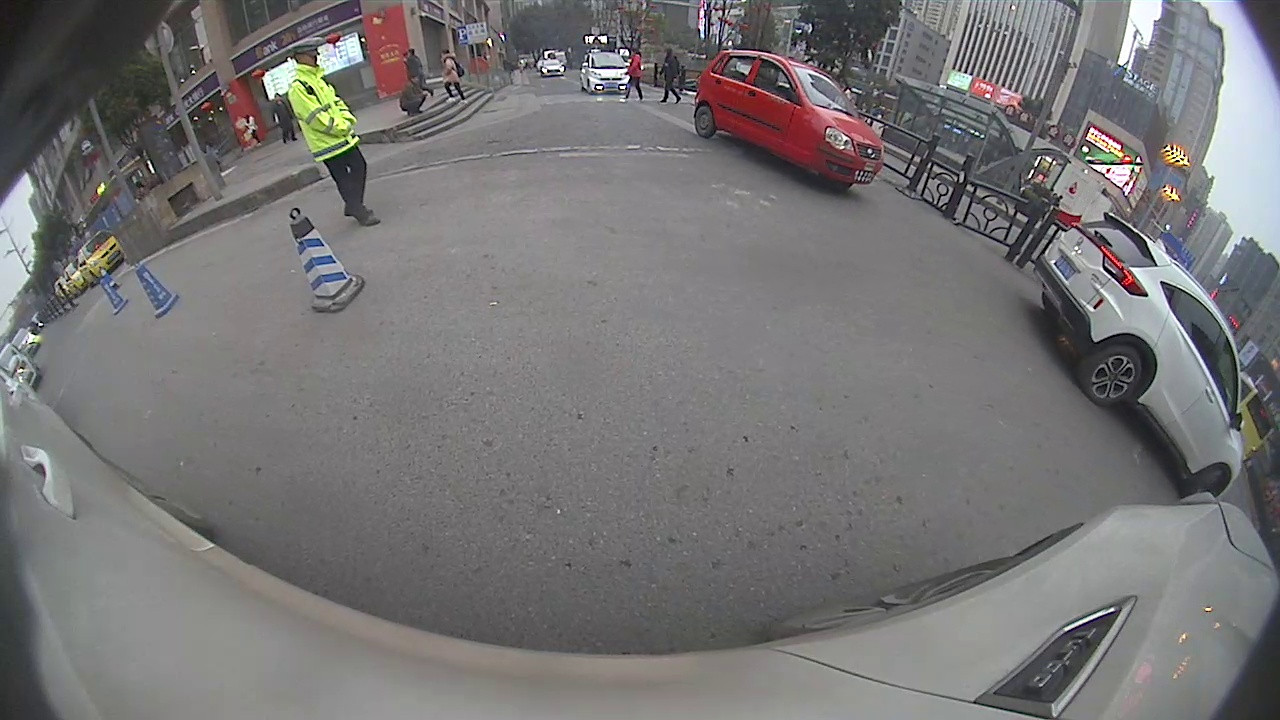car: (1032, 212, 1244, 499), (694, 48, 884, 192), (581, 51, 631, 92)
front: (1182, 466, 1230, 507)
person: (288, 46, 368, 229), (441, 53, 469, 105), (271, 93, 296, 145), (400, 79, 427, 118), (626, 50, 641, 102), (662, 50, 675, 104), (244, 116, 262, 151)
rear: (1078, 344, 1150, 410), (692, 106, 716, 137)
